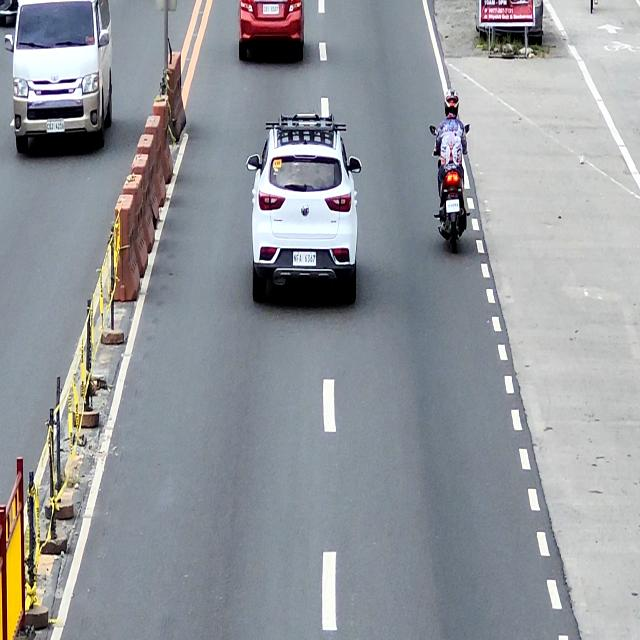Car: (246, 112, 362, 307), (5, 0, 114, 156), (238, 0, 305, 61)
License-Plate: (292, 250, 317, 267), (45, 120, 65, 134), (262, 3, 280, 15), (446, 200, 460, 212)
Motorcycle: (430, 122, 471, 254)
